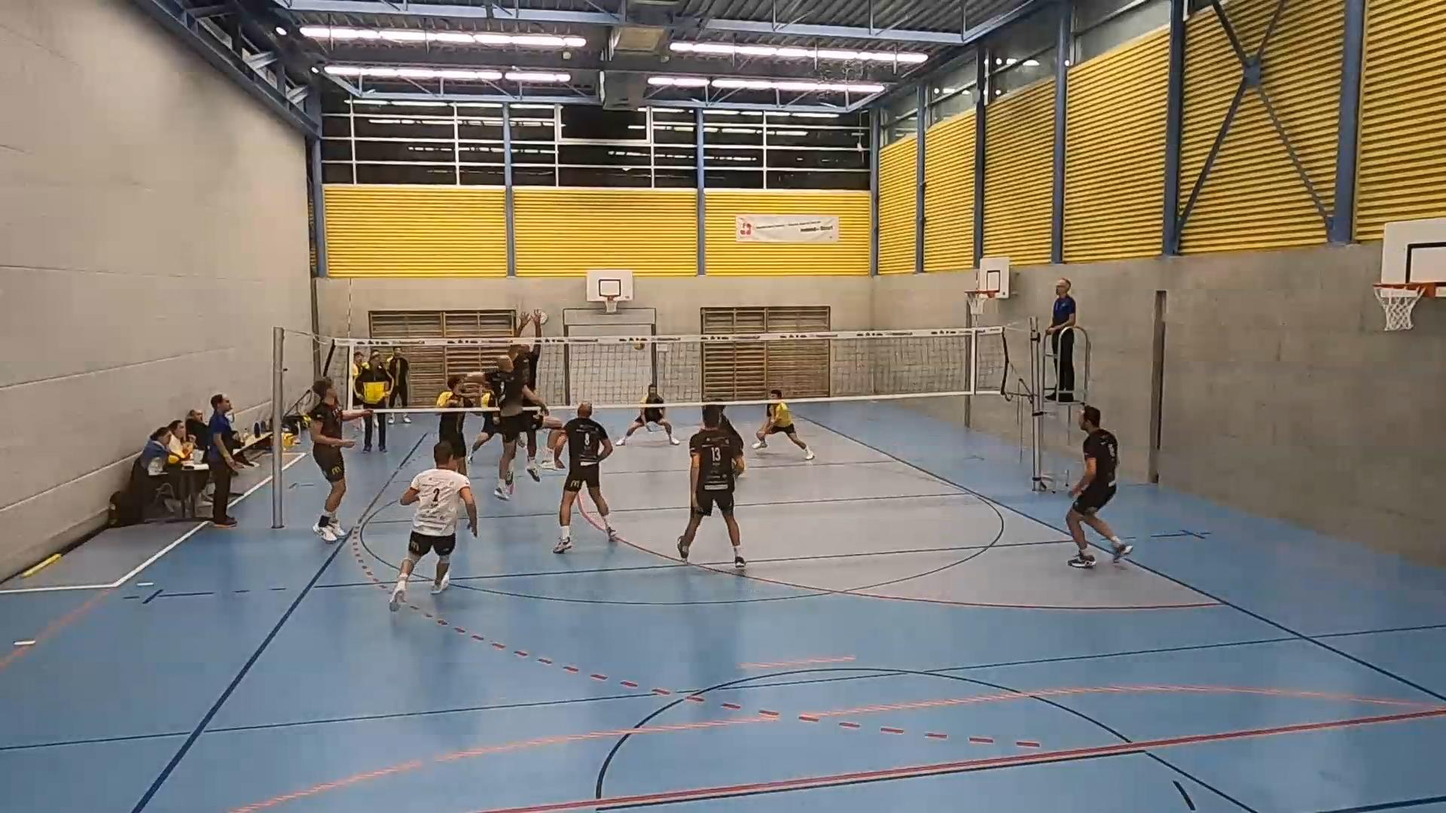Attack: (466, 349, 564, 498)
Block: (503, 305, 545, 401)
Player: (390, 440, 477, 611), (677, 406, 745, 569), (1066, 406, 1132, 568), (308, 378, 371, 543), (553, 402, 615, 553), (752, 388, 814, 460), (618, 385, 679, 444), (438, 411, 467, 475), (471, 388, 498, 455), (703, 405, 743, 448)
ball: (533, 306, 551, 330)
